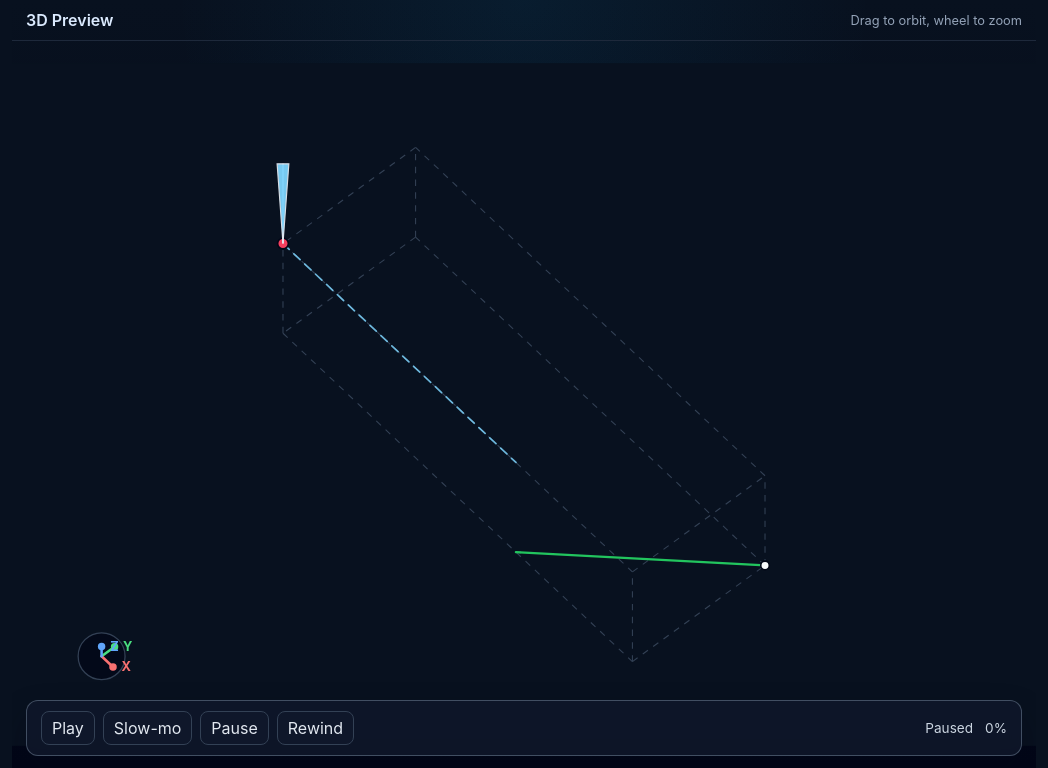
Test: ToolpathPreview3D › supports play, slow-mo, pause, and rewind controls
Click the button "Play".
click(68, 728)  # box [41,711,95,745]
Wait 500 ms
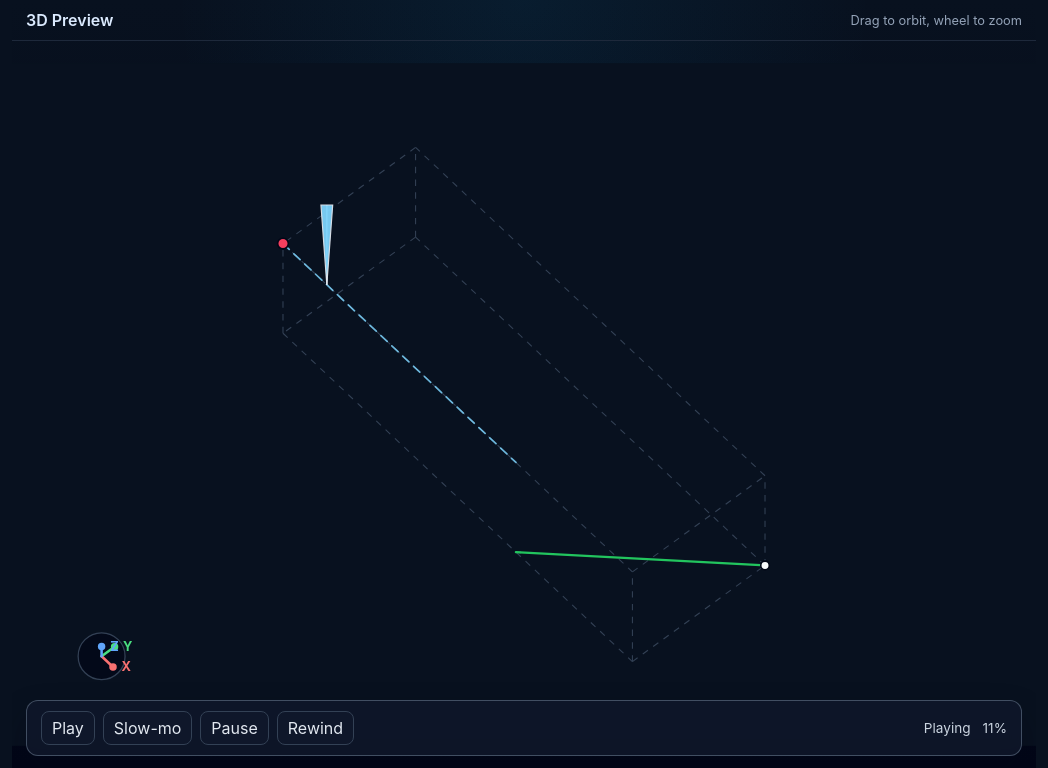
Expected: the text "Playing" is shown, [924,720,971,736]
Expected: the text "0%" is gone
Click the button "Slow-mo".
click(148, 728)  # box [103,711,192,745]
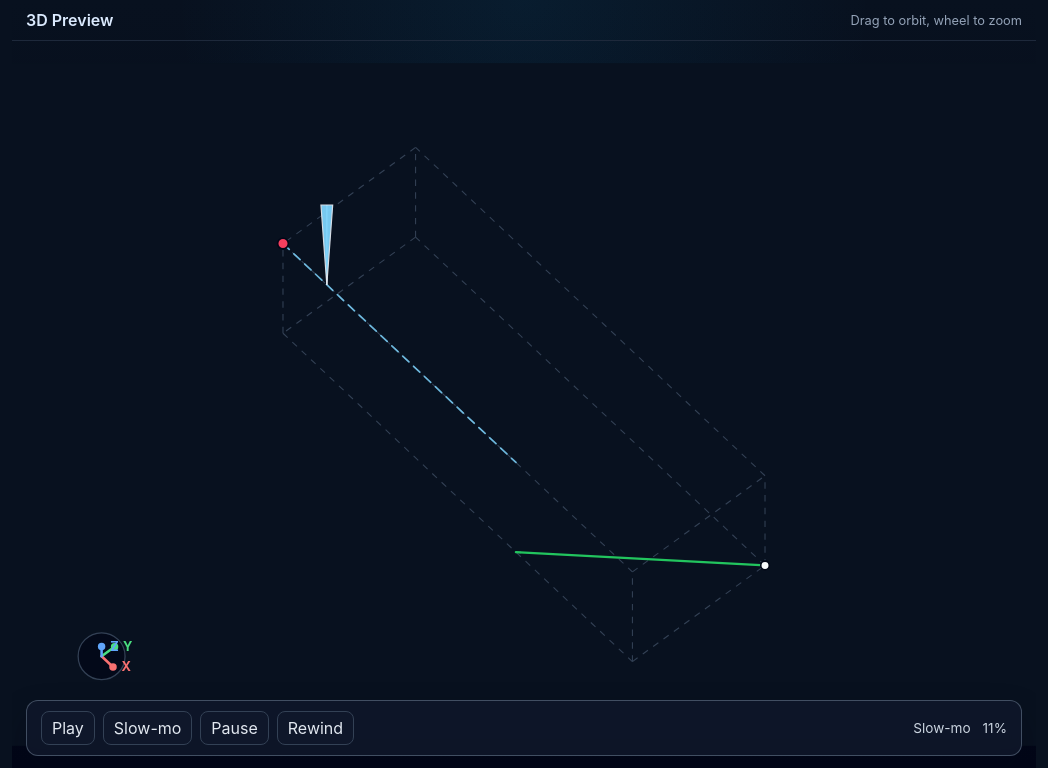
Expected: the number of buttons "Slow-mo" is 2, [103,711,192,745]; [913,720,971,736]
Click the button "Pause".
click(235, 728)  # box [200,711,269,745]
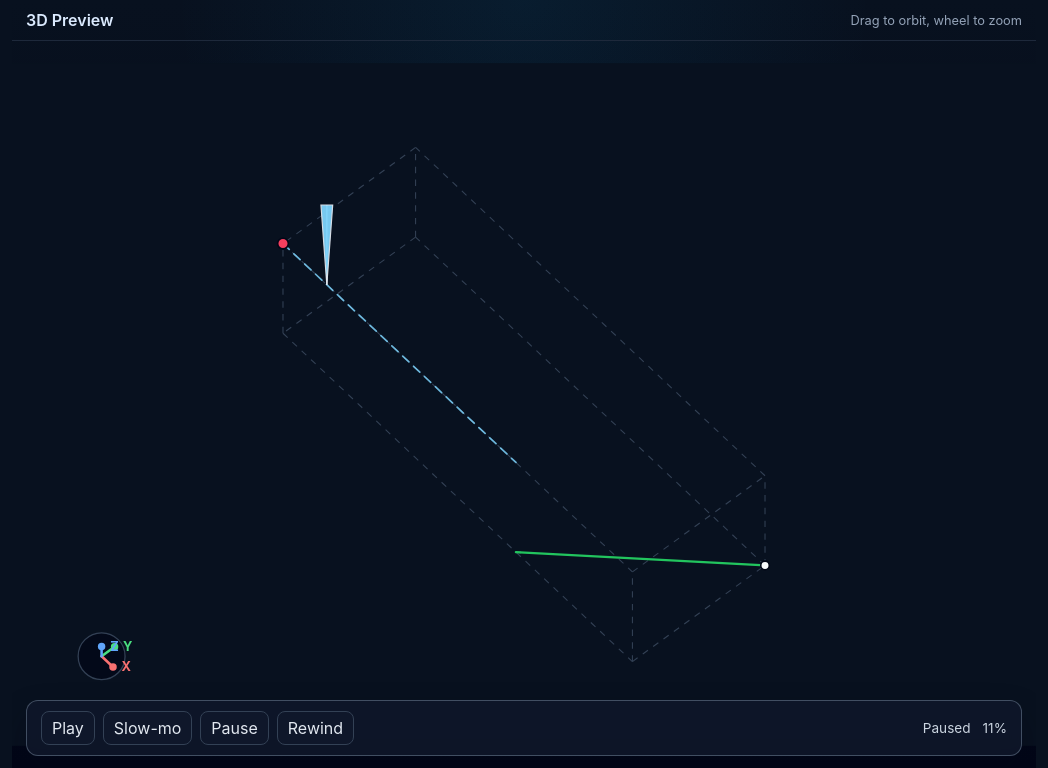
Expected: the text "Paused" is shown, [923,720,971,736]
Click the button "Rewind".
click(315, 728)  # box [277,711,354,745]
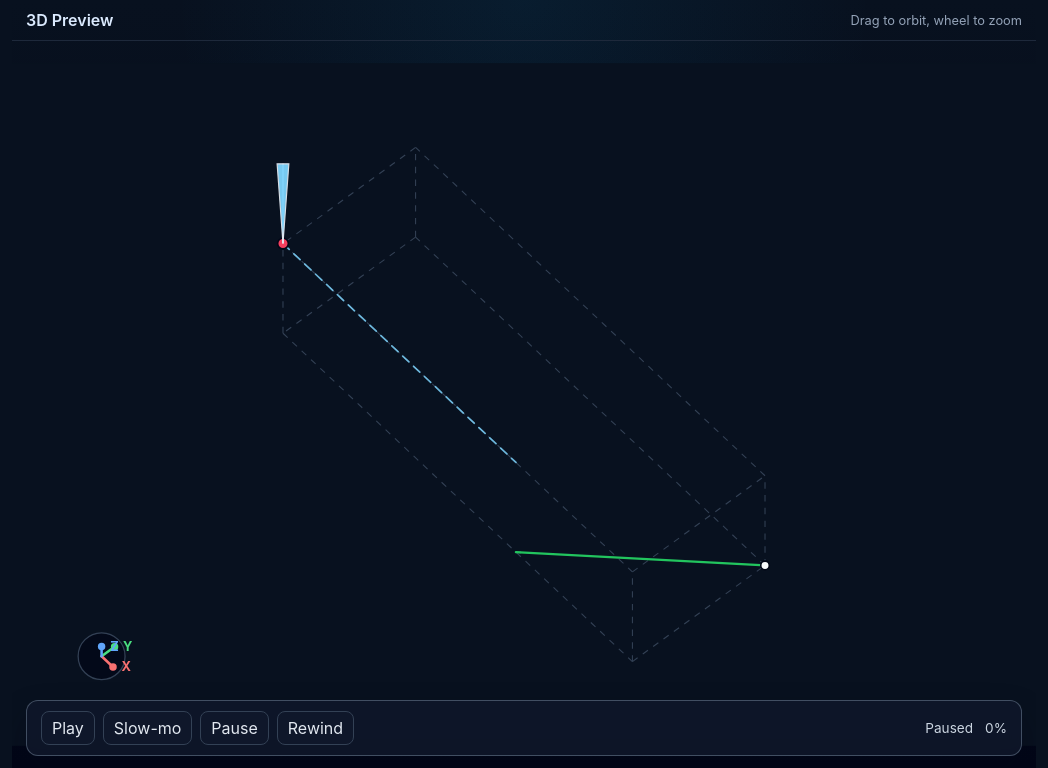
Expected: the text "0%" is shown, [985,720,1007,736]
